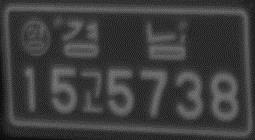1: (20, 65, 41, 113)
3: (173, 70, 205, 122)
5: (104, 67, 135, 118), (48, 65, 78, 114)
7: (137, 66, 169, 118)
8: (208, 70, 242, 122)
경남_D: (60, 17, 190, 62)
고: (77, 68, 104, 115)
영: (19, 18, 53, 57)
